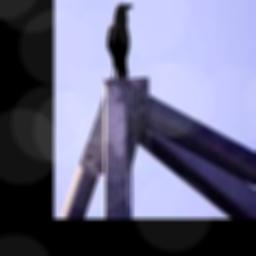Crow: (108, 4, 135, 80)
